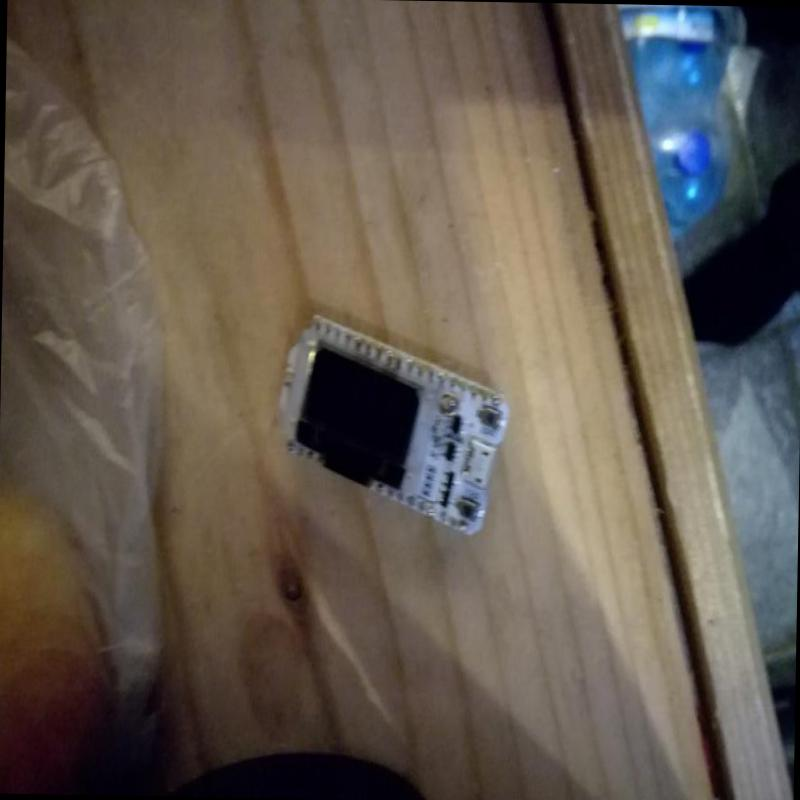Heltec_ESP32_Lora: (272, 312, 519, 543)
